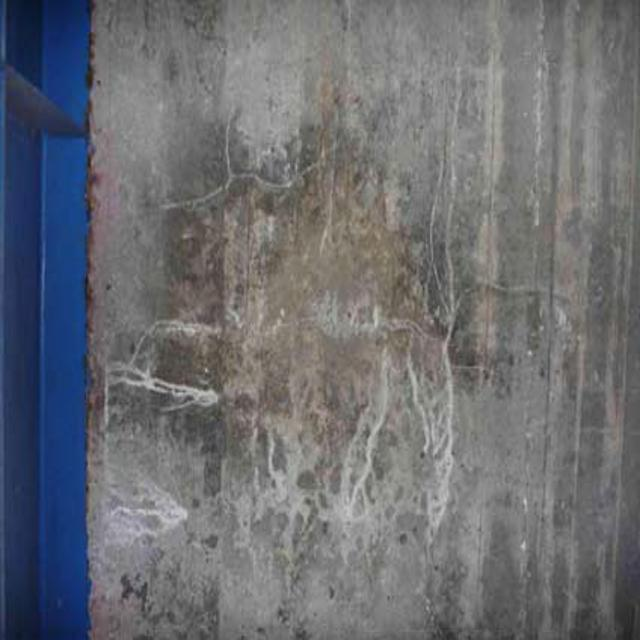freelime: (328, 298, 483, 538), (100, 334, 211, 566)
